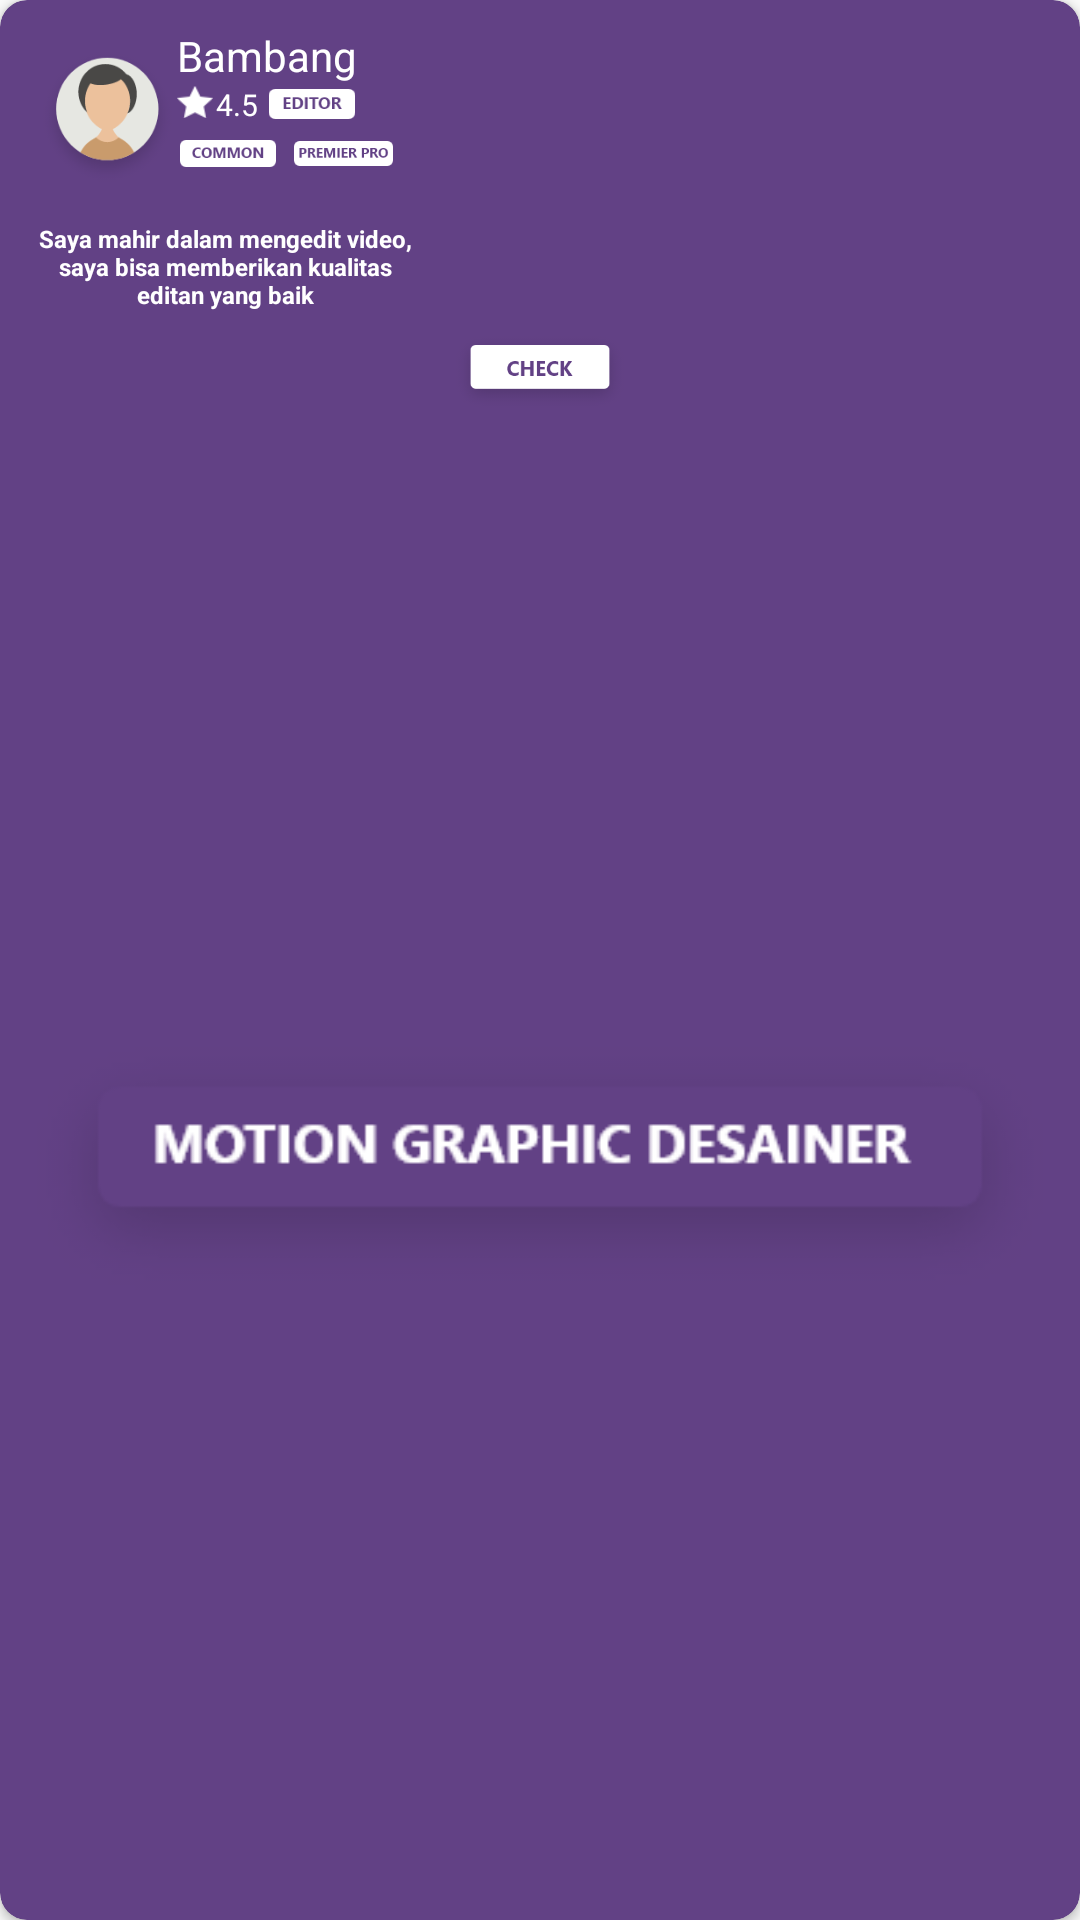

Screen size 1080×1920. Icon name, then its center in pixels as (x=x, y=y):
bintang: (x=195, y=102)
